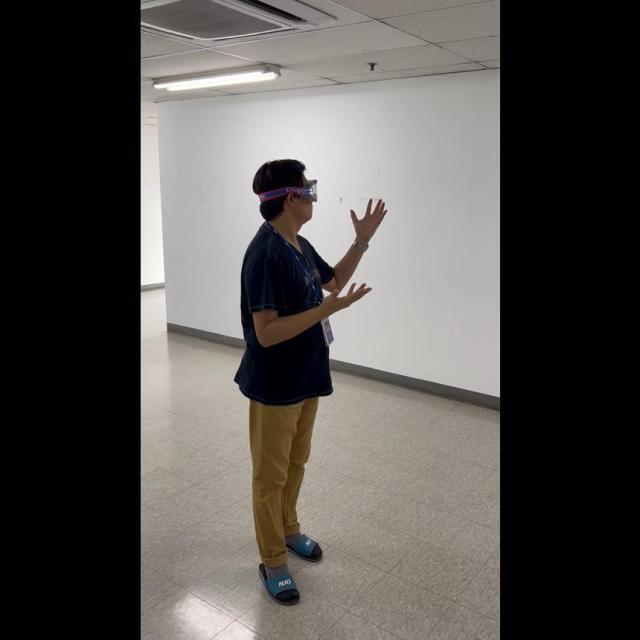bare_hand: (347, 191, 387, 249), (326, 275, 372, 310)
